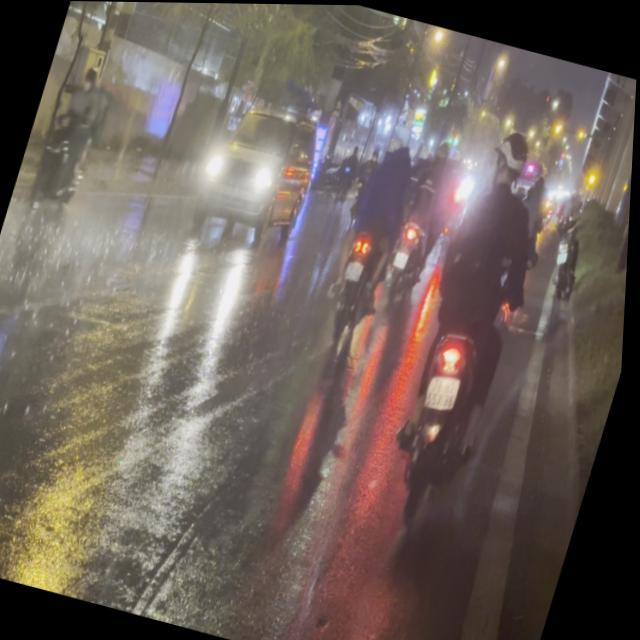helmet: (489, 126, 537, 189)
licenseplate: (370, 105, 577, 515)
nohelmet: (426, 370, 465, 411)
